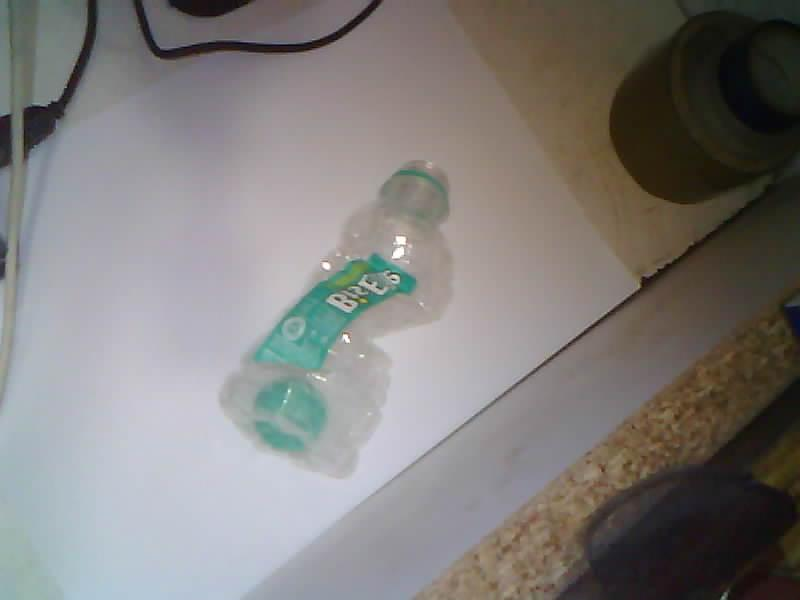non-biodegradable: (220, 161, 451, 477)
